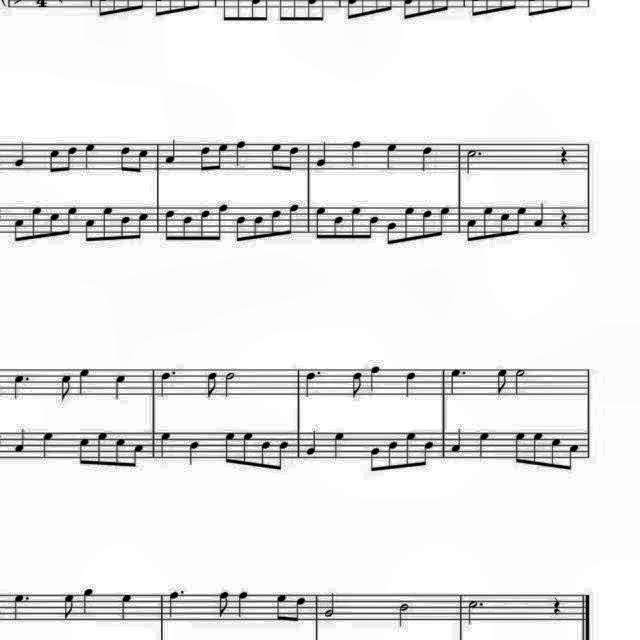Eighth-note: (213, 200, 230, 243), (29, 202, 45, 242), (240, 428, 256, 468), (348, 202, 364, 242), (404, 430, 420, 470), (530, 428, 546, 468), (402, 202, 418, 242), (479, 204, 496, 240), (94, 429, 110, 467), (98, 205, 114, 243), (312, 203, 328, 240), (198, 206, 214, 242), (510, 428, 526, 464), (272, 590, 290, 622), (213, 588, 231, 620), (220, 428, 236, 464), (491, 366, 509, 398), (60, 590, 78, 622), (347, 367, 365, 398), (203, 368, 221, 399), (57, 371, 75, 402), (418, 206, 434, 240), (548, 436, 564, 470), (258, 438, 274, 470), (384, 438, 400, 470), (64, 204, 80, 236), (136, 210, 152, 242), (112, 436, 128, 468), (234, 214, 250, 246), (438, 204, 454, 236), (276, 436, 292, 468), (268, 140, 284, 172), (116, 144, 132, 176), (44, 146, 60, 178), (64, 142, 80, 174), (162, 208, 176, 244), (292, 596, 308, 626), (366, 442, 382, 472), (284, 145, 300, 175), (10, 215, 26, 245), (198, 143, 214, 173), (512, 205, 528, 235), (286, 202, 300, 236), (420, 439, 436, 468), (84, 217, 100, 246), (270, 206, 284, 238), (250, 214, 266, 242), (332, 213, 348, 241), (76, 434, 90, 466), (566, 442, 580, 474), (496, 208, 512, 236), (134, 148, 150, 176), (384, 220, 400, 248), (215, 140, 229, 172), (365, 212, 379, 242), (117, 213, 131, 243), (464, 214, 478, 243), (47, 210, 61, 238), (132, 438, 146, 466), (184, 213, 196, 243)
Half-dot: (463, 599, 485, 629)
Half-note: (465, 146, 487, 177), (324, 590, 342, 622), (394, 601, 412, 631), (512, 367, 530, 397), (221, 369, 237, 399)
Quarter-dot: (156, 360, 184, 400), (302, 366, 326, 402), (8, 592, 32, 624), (450, 362, 470, 400), (8, 369, 32, 399), (163, 590, 184, 622)
Quarter-note: (10, 138, 30, 170), (418, 142, 438, 174), (119, 590, 138, 622), (382, 140, 402, 170), (110, 372, 130, 401), (39, 430, 57, 462), (82, 140, 100, 172), (80, 586, 98, 618), (163, 136, 181, 166), (476, 429, 494, 459), (313, 138, 331, 168), (347, 138, 365, 168), (403, 369, 421, 399), (232, 138, 250, 168), (10, 428, 28, 457), (76, 364, 92, 396), (186, 436, 204, 464), (332, 429, 348, 459), (232, 587, 248, 617), (366, 365, 382, 395), (158, 429, 174, 459), (305, 428, 321, 456), (530, 200, 546, 228), (450, 429, 466, 455)
Quarter-rest: (549, 592, 567, 618), (556, 144, 572, 168), (556, 205, 572, 229)
